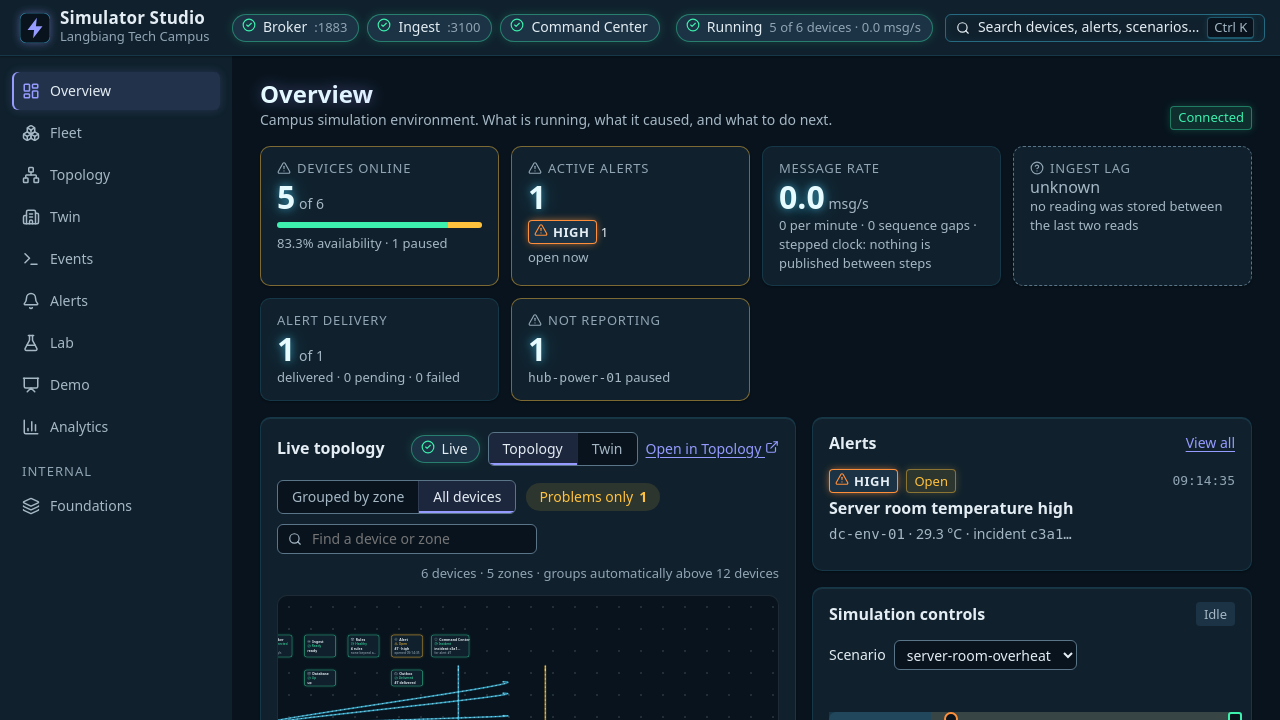
Scenario: the keyboard › keeps a letter typed in a field a letter
Click the button "Search devices, alerts, scenarios… Ctrl K" at [1105, 28], box [945,14,1265,42]
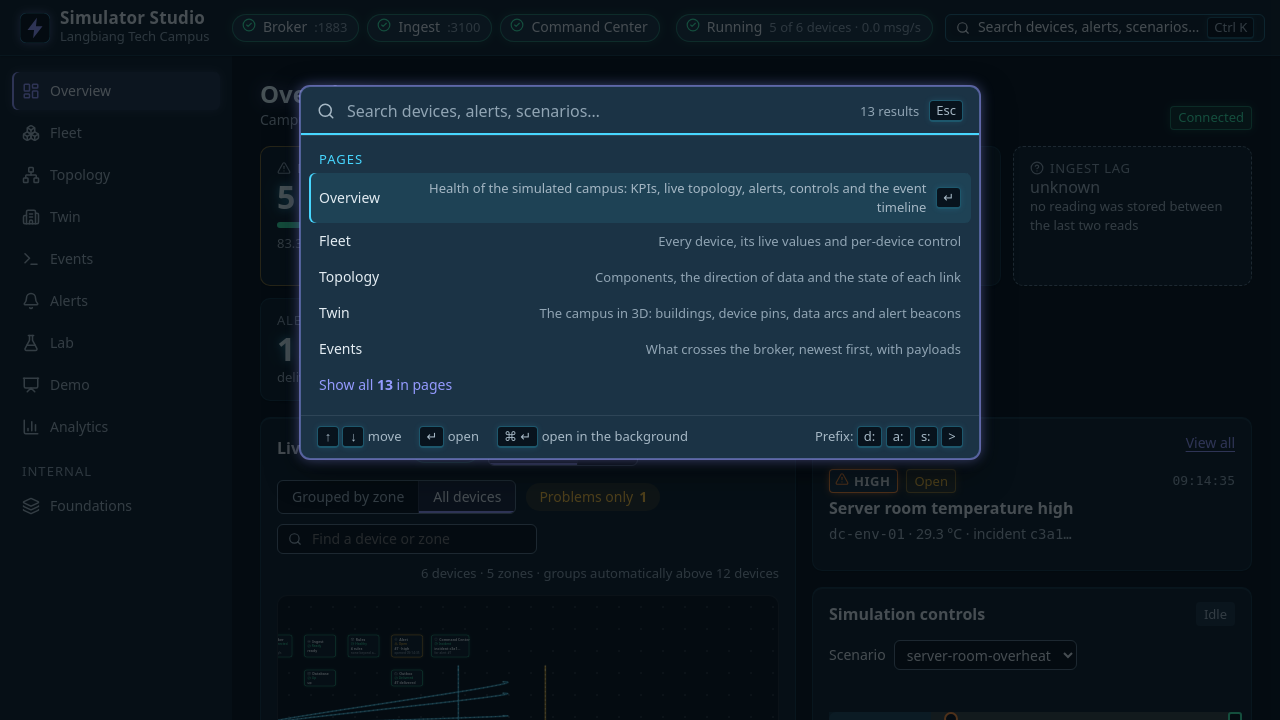
Type keys "gf"
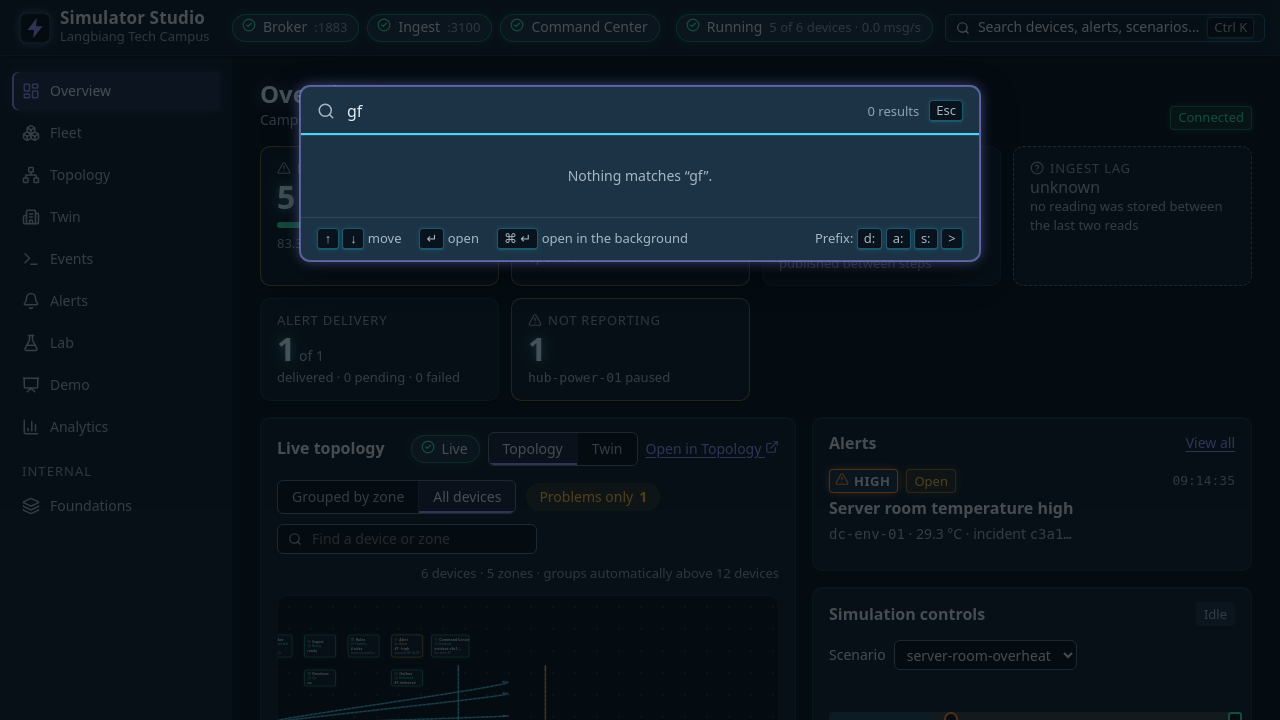
Expected: the heading "Overview" is shown, [260,80,832,108]
Result: the dropdown named "Search devices" holds "gf" at [345,99,858,123]
